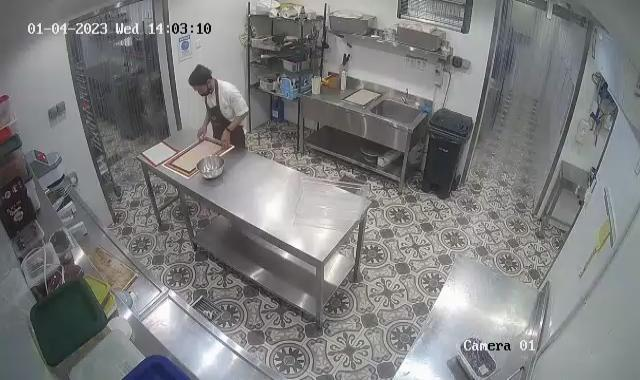gloves: (186, 66, 214, 86)
mask: (188, 85, 219, 102)
no_apron: (213, 126, 240, 149), (190, 125, 213, 144)
